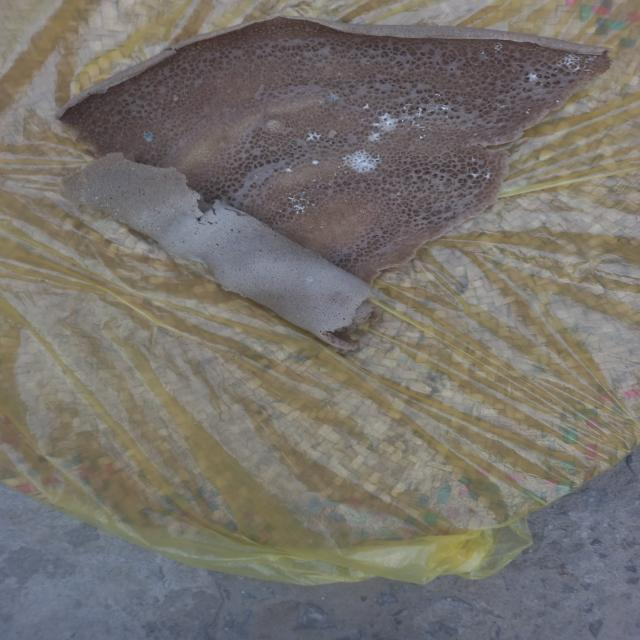injera_mold: (340, 149, 377, 174), (407, 106, 431, 135), (372, 111, 408, 130), (284, 192, 311, 214), (559, 52, 579, 72), (524, 68, 542, 85), (468, 170, 498, 180), (138, 128, 158, 143), (305, 128, 322, 142), (364, 132, 386, 142), (187, 256, 208, 266), (438, 104, 455, 114), (310, 156, 321, 170), (492, 43, 509, 51), (279, 166, 297, 173), (586, 54, 598, 63), (479, 49, 488, 61), (328, 92, 337, 103), (78, 194, 87, 203), (583, 67, 593, 74), (400, 103, 413, 108), (498, 103, 506, 110), (522, 47, 540, 50), (430, 93, 443, 97), (306, 275, 312, 283), (360, 104, 372, 108), (154, 225, 161, 231), (470, 156, 476, 162), (417, 136, 429, 139), (524, 110, 530, 116), (360, 117, 366, 123), (138, 218, 144, 224), (276, 208, 282, 214), (99, 204, 110, 207), (395, 191, 401, 196), (472, 132, 479, 136), (114, 211, 118, 218), (424, 95, 431, 99), (337, 251, 342, 256), (320, 224, 324, 230), (311, 178, 317, 182), (444, 115, 450, 119), (326, 182, 333, 185), (355, 190, 359, 195), (450, 161, 455, 165), (334, 172, 338, 177), (360, 210, 366, 213), (398, 236, 401, 242), (337, 72, 341, 76), (94, 196, 98, 200), (444, 124, 448, 128), (253, 174, 258, 177), (554, 100, 560, 102), (132, 167, 136, 170), (269, 184, 273, 187), (343, 199, 347, 202), (380, 259, 384, 262), (171, 208, 175, 211), (554, 70, 558, 72), (548, 78, 551, 80)
